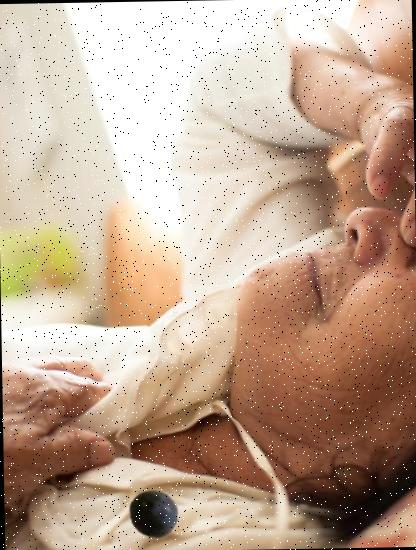Plum: (128, 488, 180, 540)
